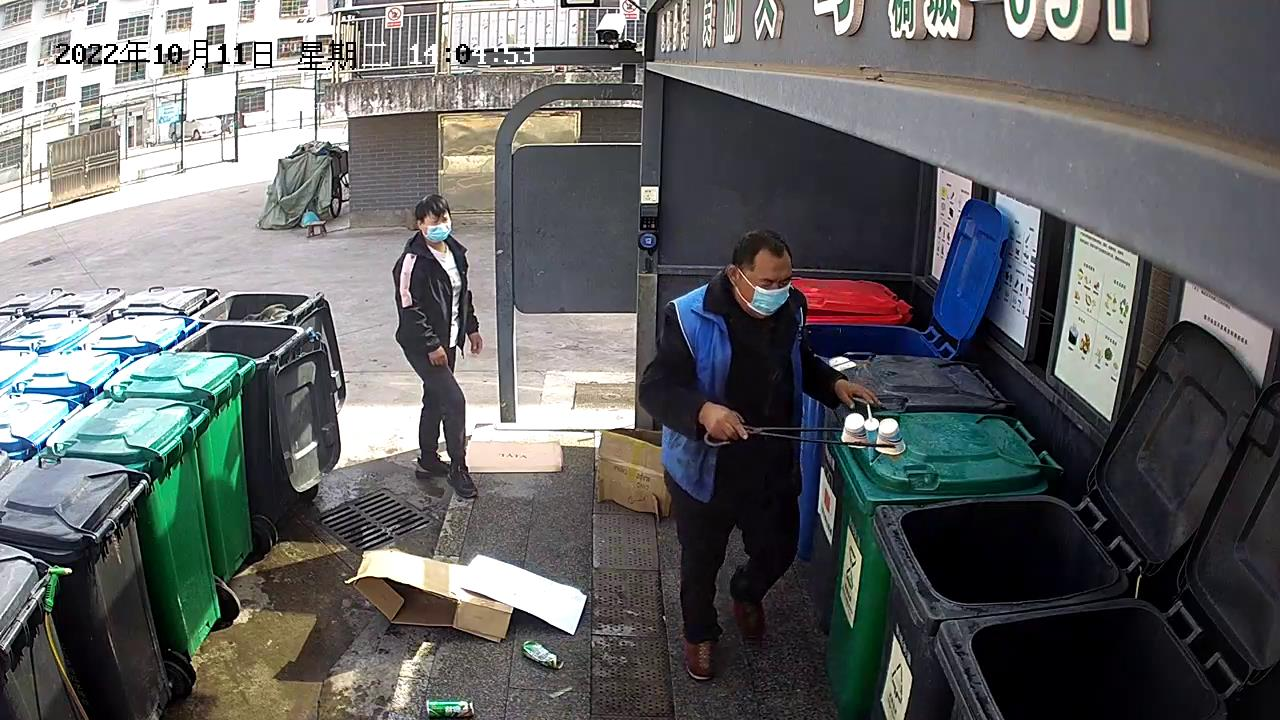lvzhipin: (521, 636, 567, 669), (423, 695, 476, 719)
person: (387, 192, 485, 502)
worker: (637, 228, 882, 683)
zhizhipin: (340, 543, 589, 645), (592, 425, 676, 520), (461, 436, 566, 475)
